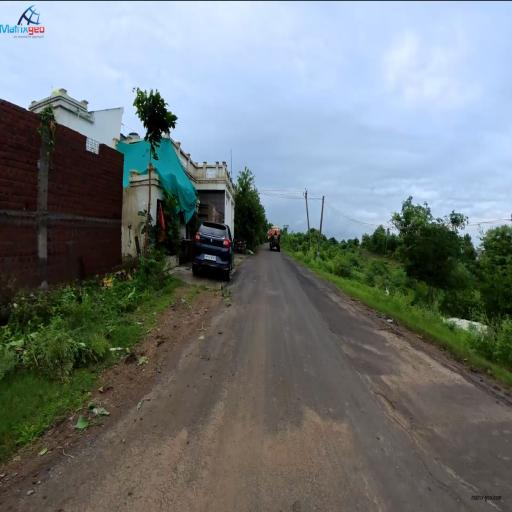pothole: (368, 378, 414, 434)
